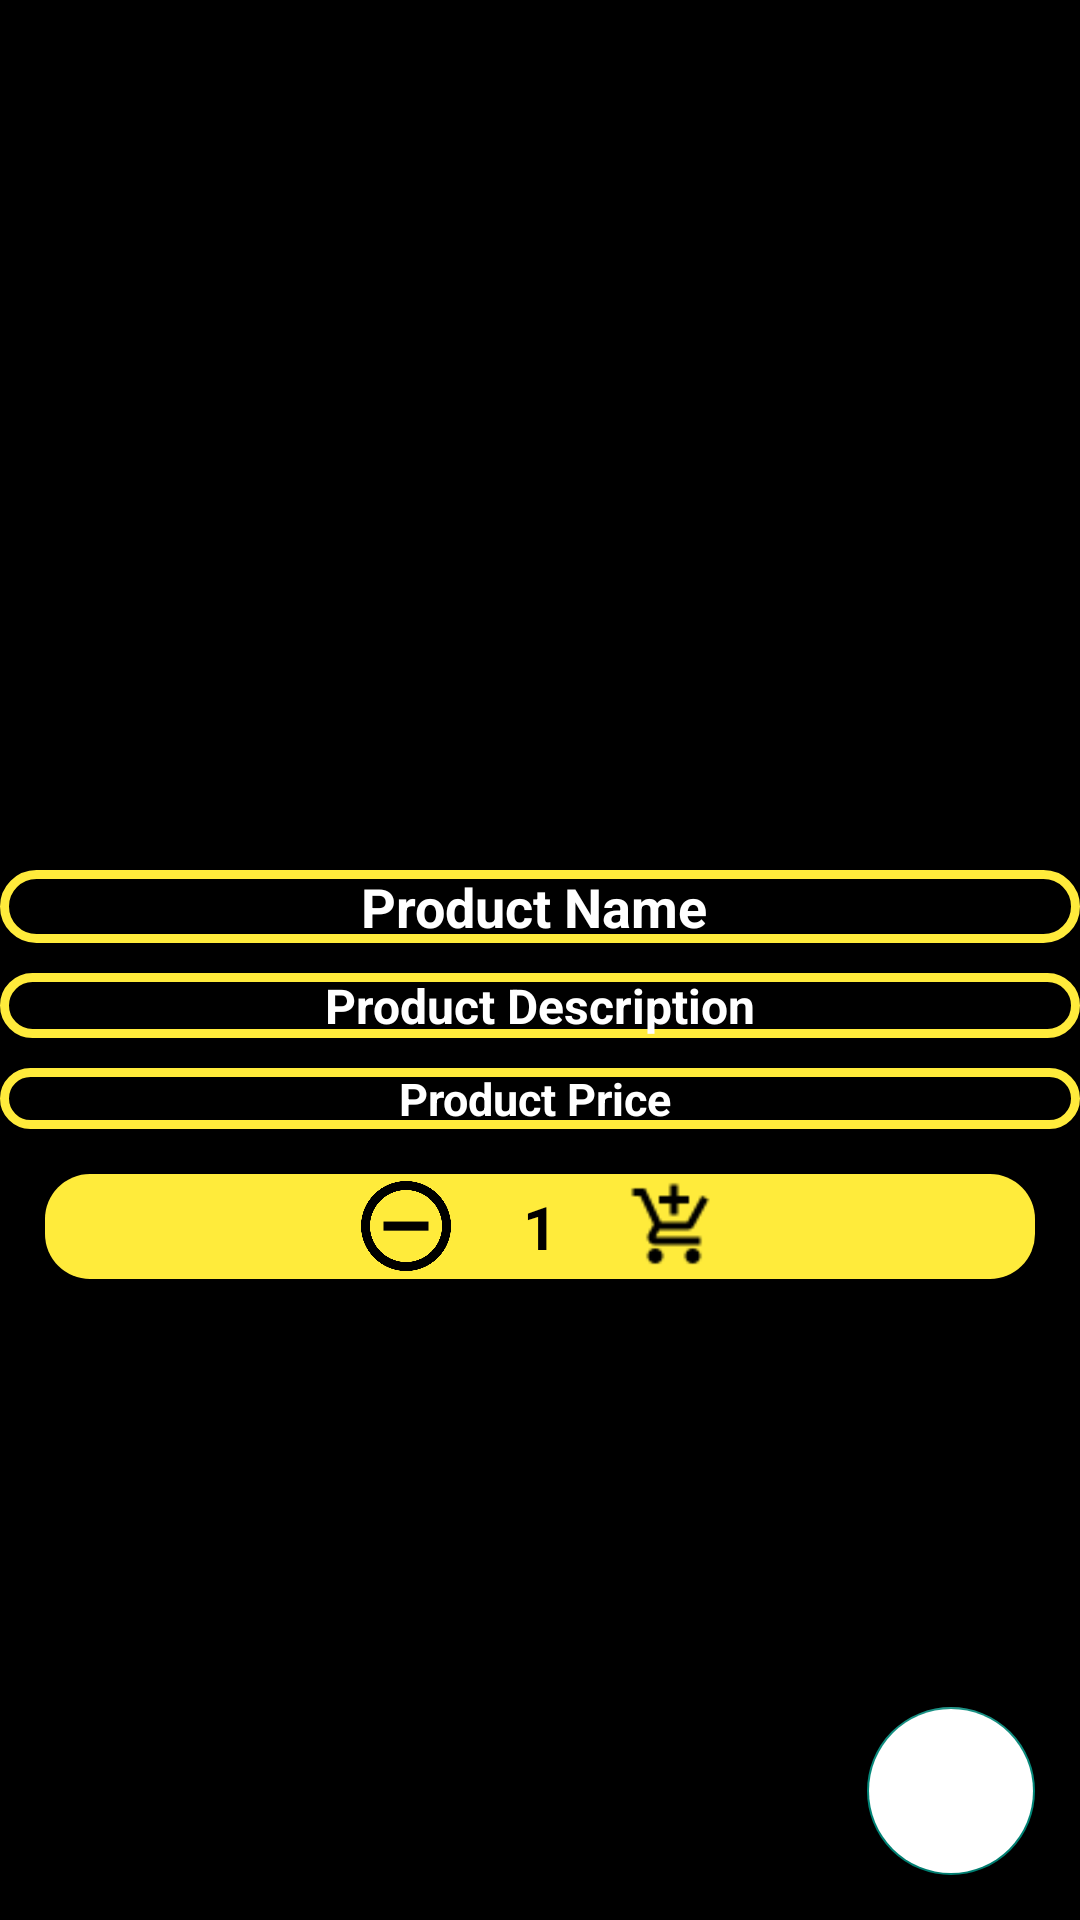

Where icons sit on this 1080 × 1920 app screen, as (x1, y1, x2, y2):
add shopping cart: (631, 1183, 710, 1265)
remove: (361, 1181, 451, 1271)
